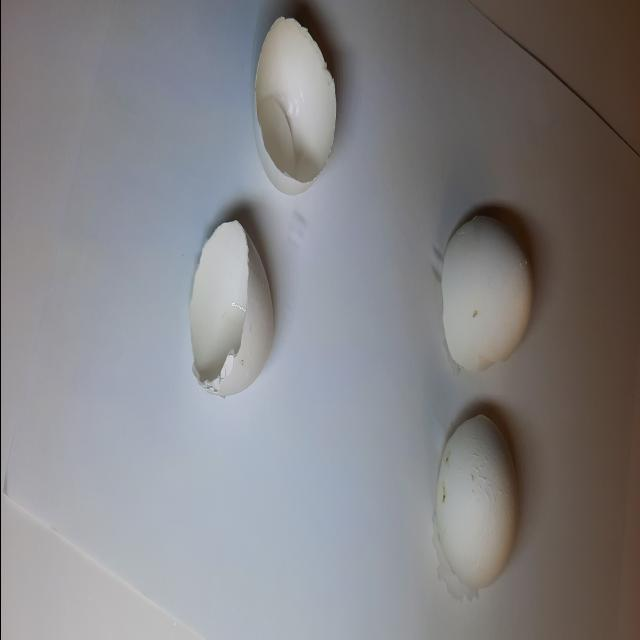egg shell: (172, 195, 286, 429), (242, 1, 368, 210), (419, 404, 534, 618), (422, 195, 544, 391)
